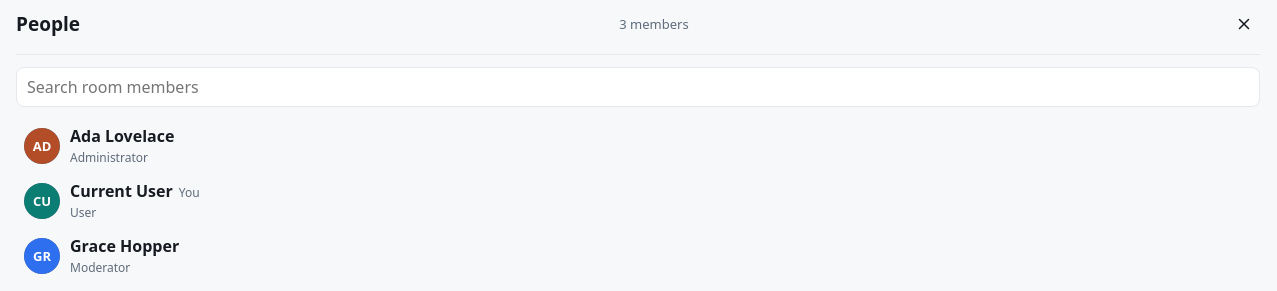
Test: PeoplePanel › shows an empty state when a search has no results
The width and height of the screenshot is (1277, 291).
Type "zzz" into the search field at (638, 87), box [16,67,1260,107]
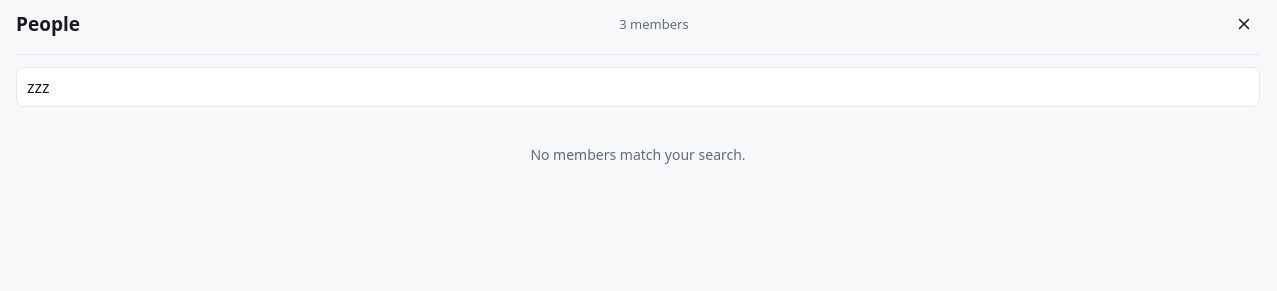
expect the message "No members match your search." is shown: met, box [530,145,746,164]
